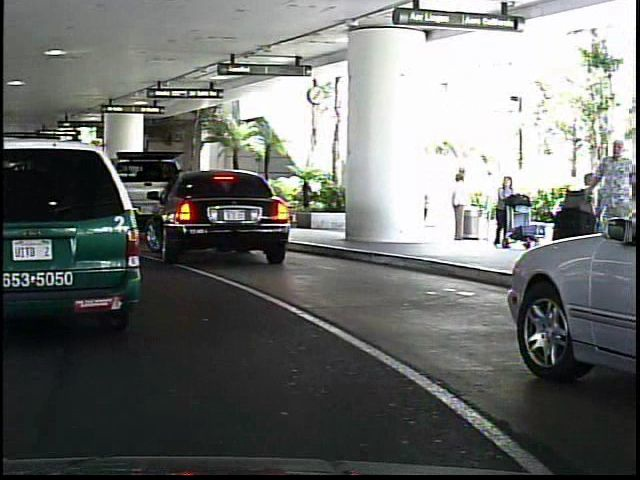person: (580, 132, 631, 290), (485, 173, 515, 255)
